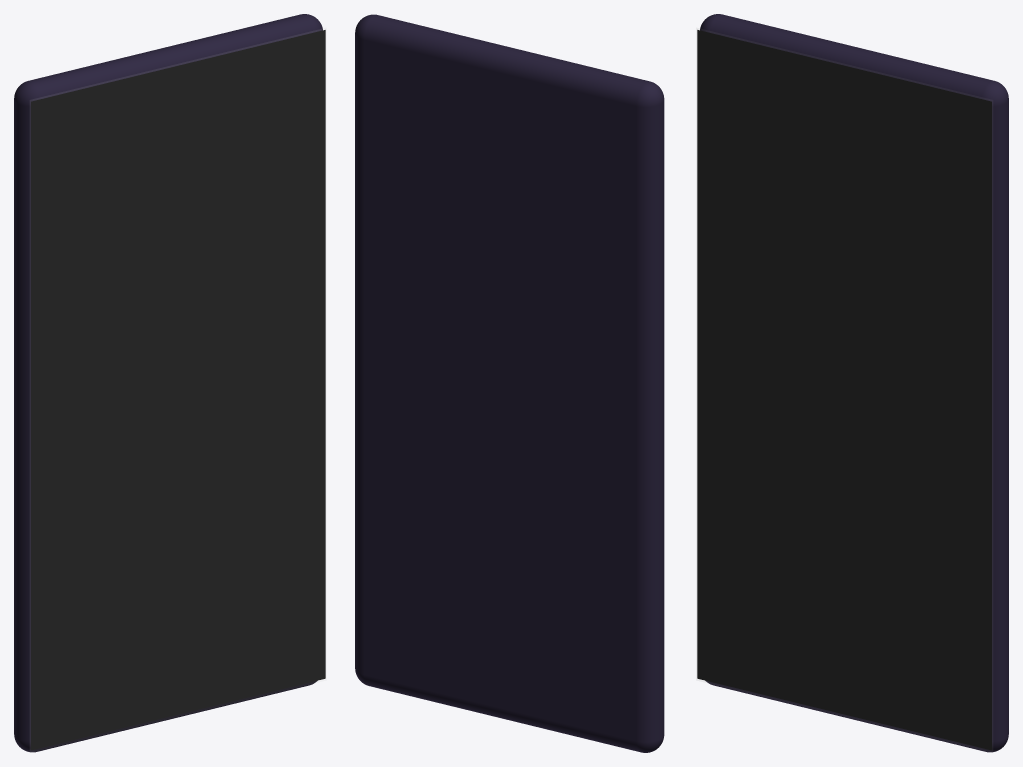
The model's file is iphone15.glb.
3 renders of one model, left to right at view 1: azimuth 30°, elevation 25°; view 2: azimuth 150°, elevation 25°; view 3: azimuth 330°, elevation 25°, orthographic.
Visible parts, largest first — view 1: Iphn15pm_blackt_front&display_part, Iphn15pm_blackt_mid_part; view 2: Iphn15pm_blackt_mid_part; view 3: Iphn15pm_blackt_front&display_part, Iphn15pm_blackt_mid_part.
Boxes of the visible parts, x1,y1,x2,y2 form: Iphn15pm_blackt_front&display_part: (31, 30, 325, 750); Iphn15pm_blackt_mid_part: (14, 14, 322, 752); Iphn15pm_blackt_mid_part: (355, 14, 664, 752); Iphn15pm_blackt_front&display_part: (697, 30, 991, 750); Iphn15pm_blackt_mid_part: (700, 14, 1008, 752).
Bounding box in the file's own units: 0.776 × 1.63 × 0.0837.
